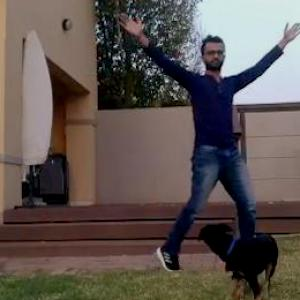takeoff: (108, 0, 299, 282)
